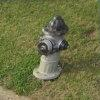a fire hydrant: (33, 14, 70, 83)
